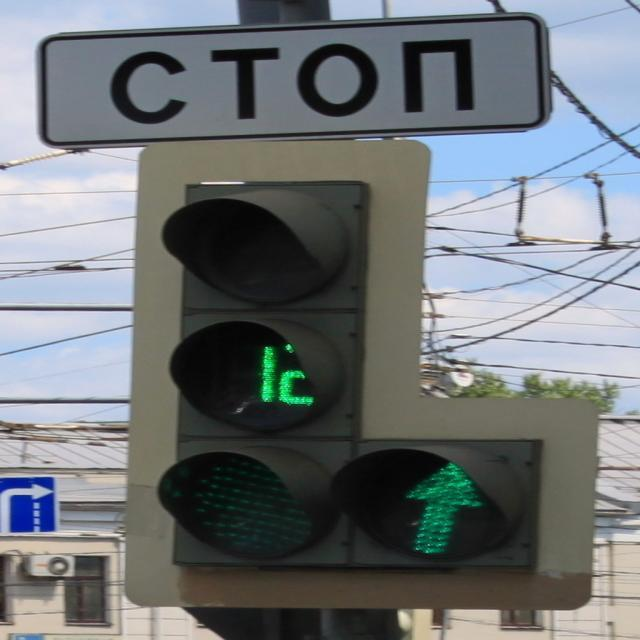obstructed_road_sign: (1, 475, 59, 539)
road_sign: (38, 12, 552, 145)
traffic light: (156, 180, 543, 574)
